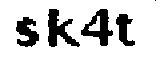4: (80, 9, 114, 48)
k: (46, 7, 81, 49)
s: (13, 17, 38, 47)
t: (116, 10, 138, 49)
